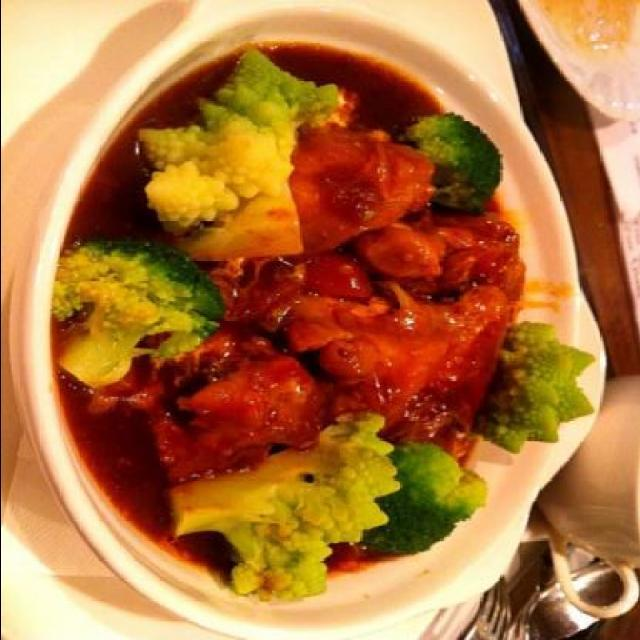Broccoli: (135, 48, 339, 260), (168, 412, 400, 596), (49, 237, 223, 386), (478, 319, 594, 452), (359, 440, 492, 552), (402, 112, 504, 210)
